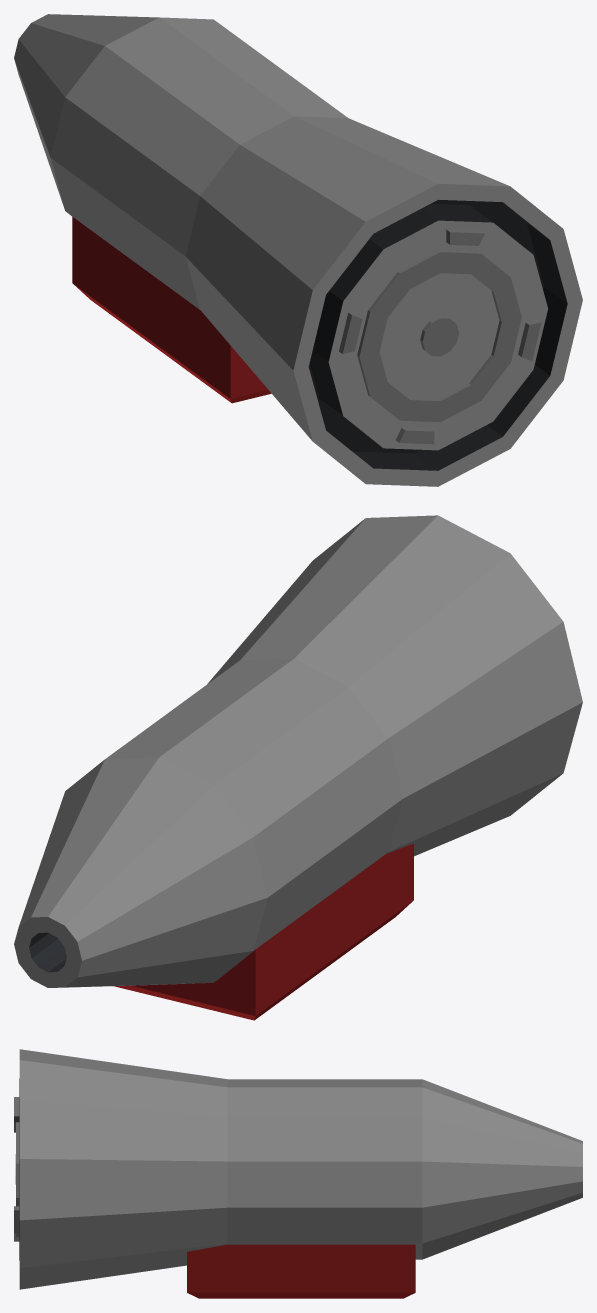
Rendered from Sport_Gearbox.FBX.
3 views of the same model, one above another, from view 1: azimuth 30°, elevation 25°; view 2: azimuth 150°, elevation 25°; view 3: azimuth 270°, elevation 25° (orthographic). The views are drawn at different scales.
Visible parts, largest first — view 1: Sport_Gearbox; view 2: Sport_Gearbox; view 3: Sport_Gearbox.
Part boxes in pixels (x1=…): Sport_Gearbox: x1=14, y1=14, x2=582, y2=486; Sport_Gearbox: x1=14, y1=515, x2=582, y2=1020; Sport_Gearbox: x1=14, y1=1049, x2=582, y2=1298.
Bounding box in the file's own units: 200 × 471 × 200.
